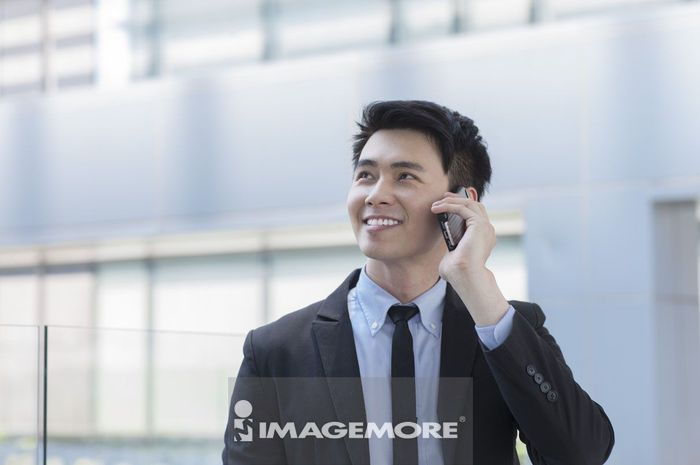phone: (440, 185, 473, 256)
talk: (345, 153, 497, 300)
